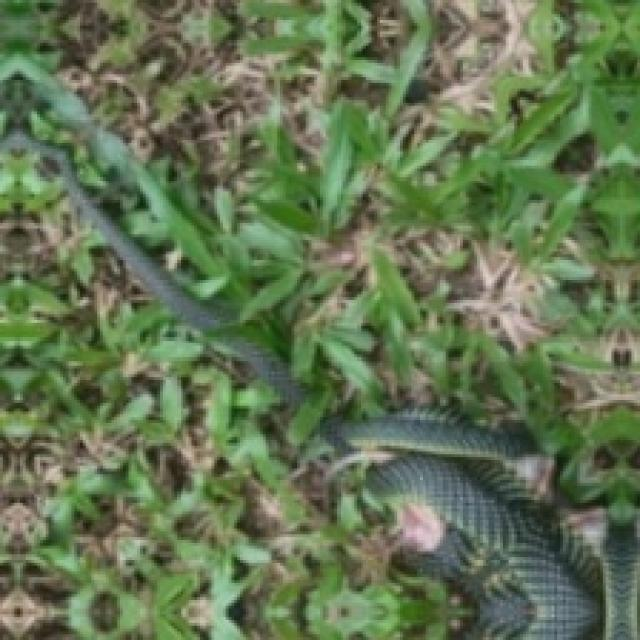paradise tree snake: (0, 134, 637, 637), (331, 411, 637, 637)
